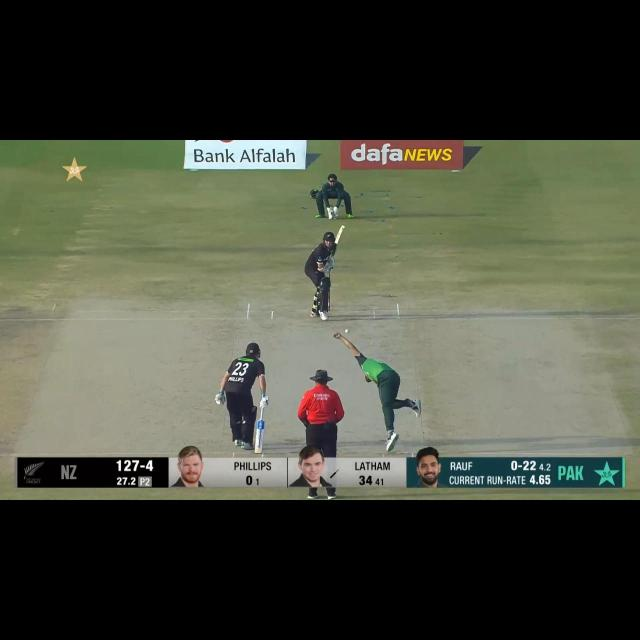bat: (328, 224, 347, 259), (254, 421, 266, 455)
toe: (338, 222, 348, 233), (253, 448, 264, 454)
